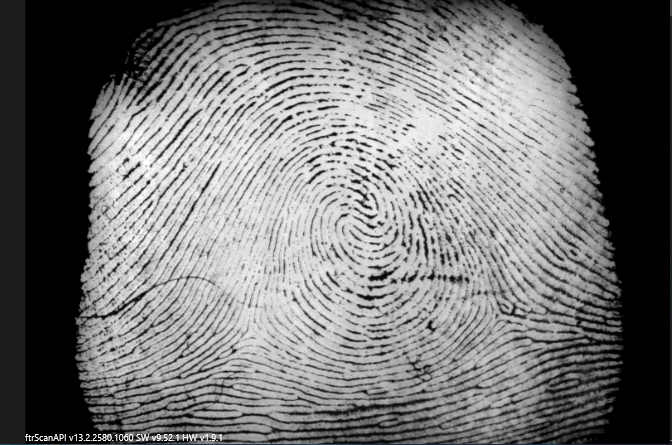nucelo: (335, 209, 373, 250)
verticilo: (480, 298, 515, 330), (236, 317, 269, 347)
